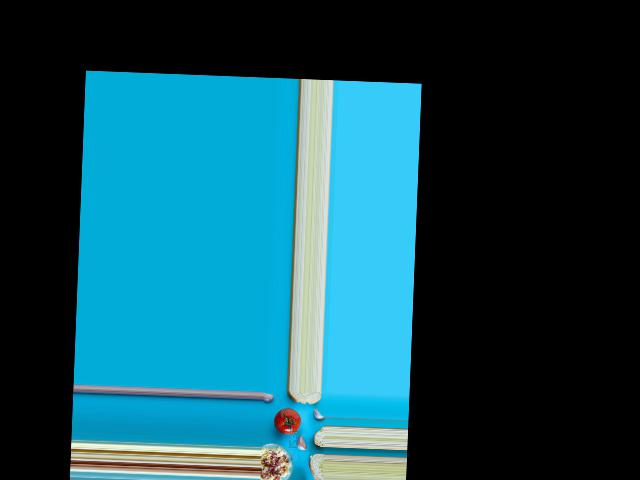tomato: (273, 407, 301, 433)
